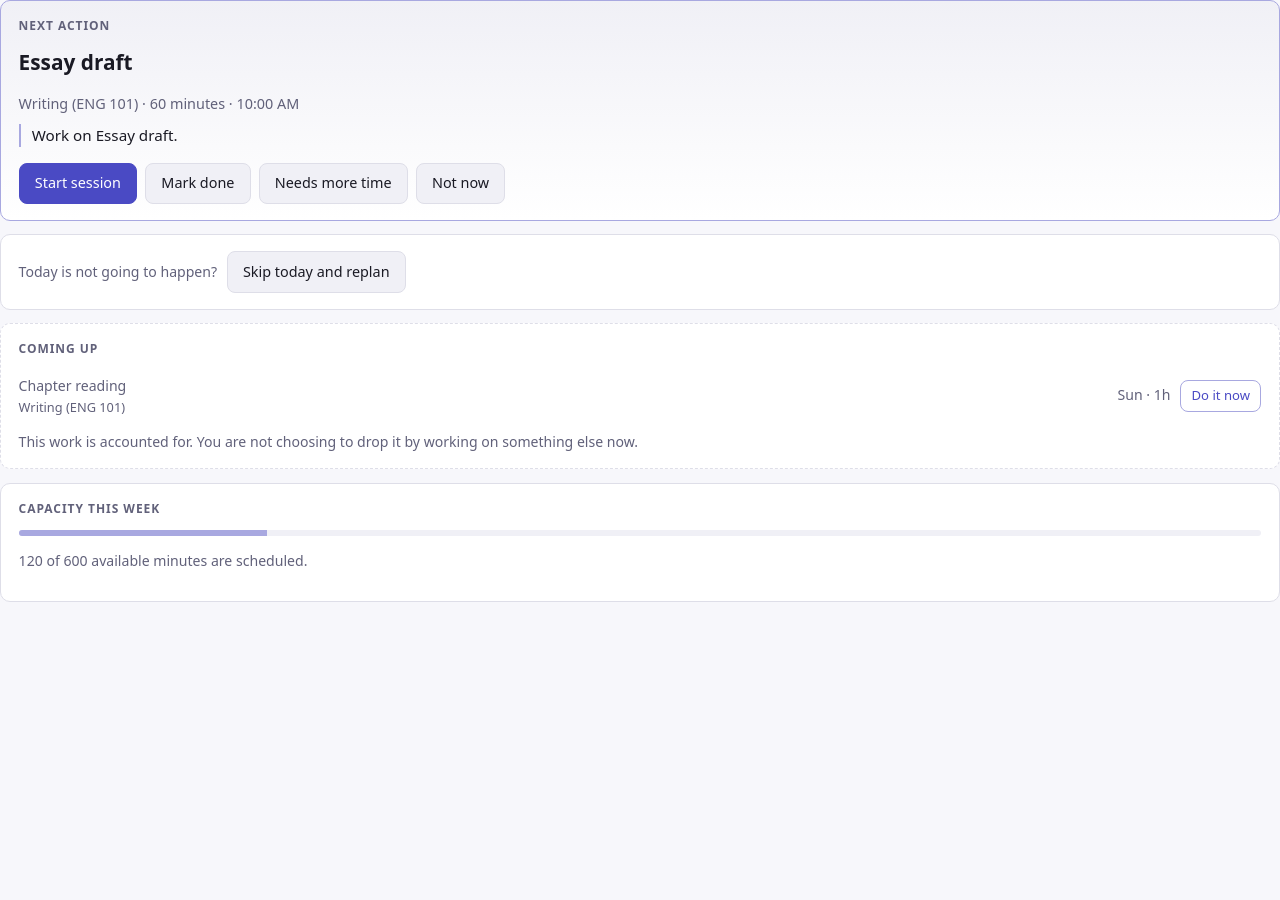
Test: Today, do it now on a Coming up row › offers tomorrow's work for now, and names both blocks before anything moves
Check: the text "Yes, start it now" is not shown
Click the button with class "do-now" at (1221, 396), box [1180,380,1261,412]
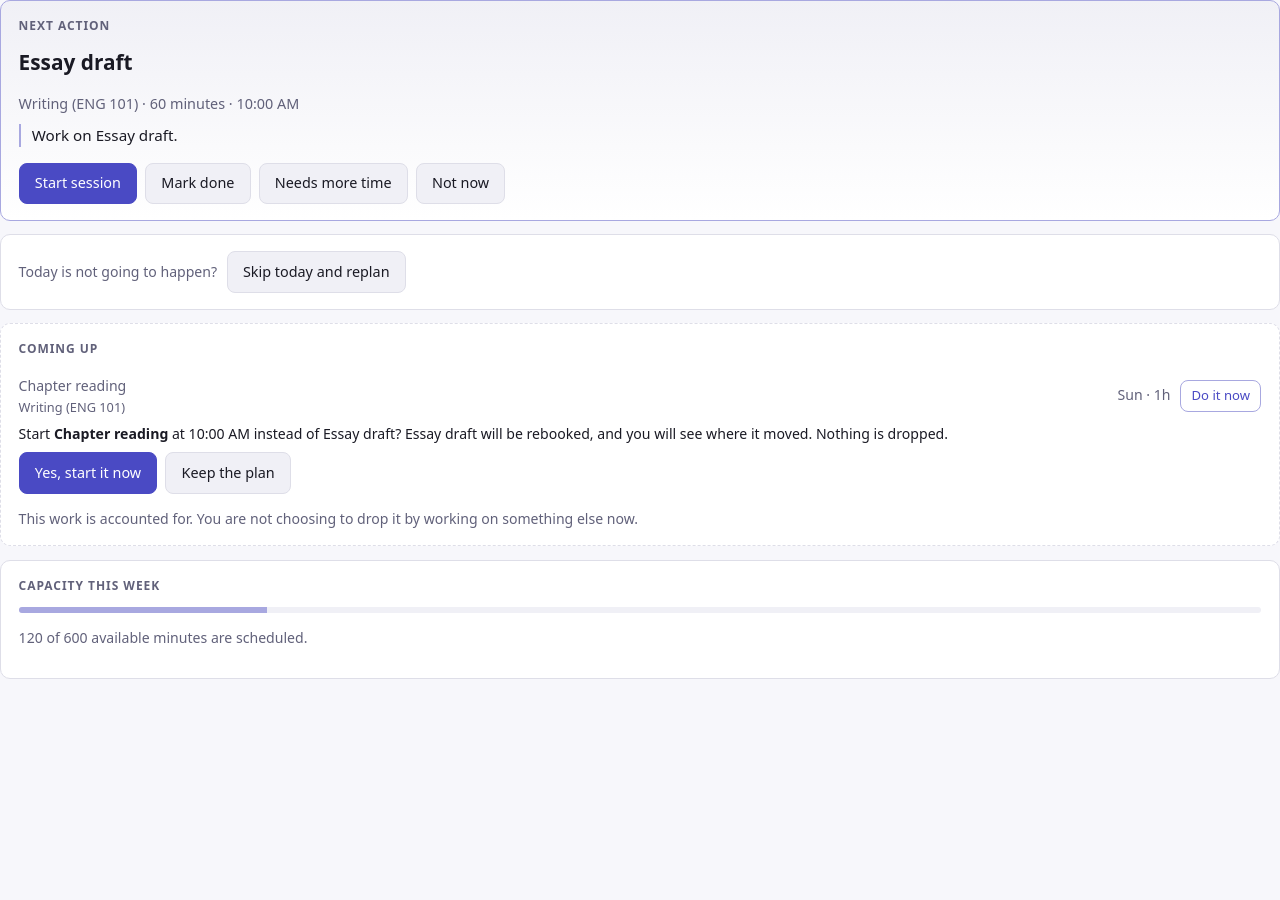
Check: the element that starts with "Coming up" shows "Chapter reading", box [19,375,126,396]
Check: the element that starts with "Coming up" shows "Essay draft will be rebooked", box [0,323,1279,546]
